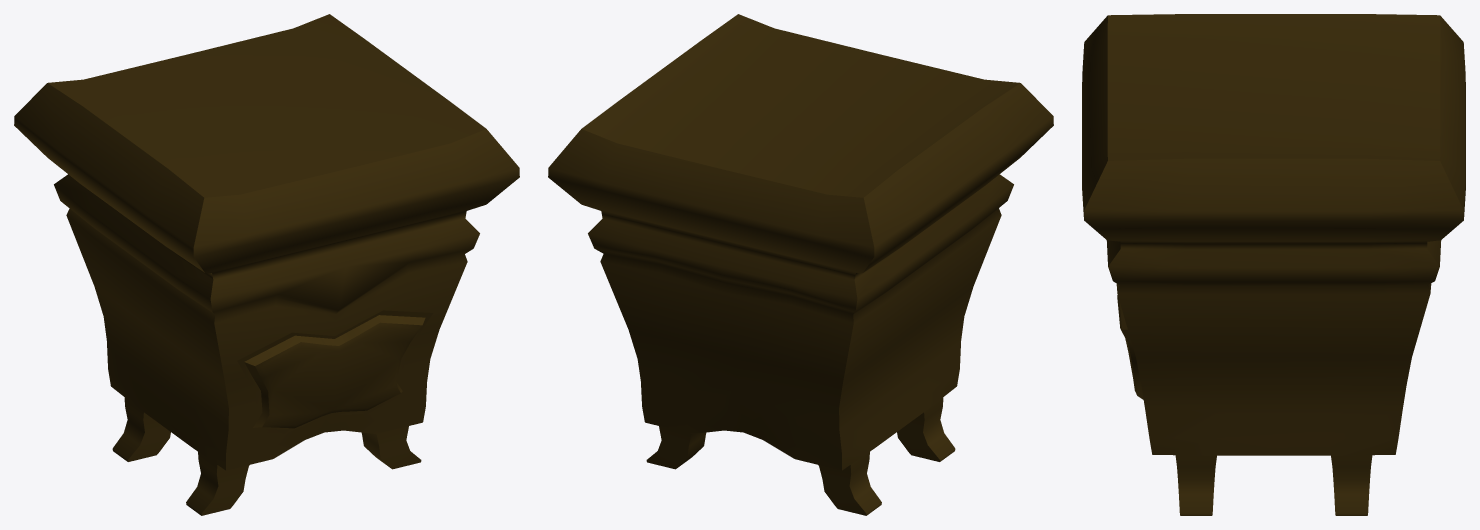
File: tauleta.FBX
3 views of the same model, side by side, from view 1: azimuth 30°, elevation 25°; view 2: azimuth 150°, elevation 25°; view 3: azimuth 270°, elevation 25° (orthographic). The views are drawn at different scales.
Visible parts, largest first — view 1: tauleta_nit_llibres_LP; view 2: tauleta_nit_llibres_LP; view 3: tauleta_nit_llibres_LP.
Part boxes in pixels (x1,y1,x2,y2): tauleta_nit_llibres_LP: (14,14,519,515); tauleta_nit_llibres_LP: (548,14,1053,515); tauleta_nit_llibres_LP: (1082,14,1465,515).
Bounding box in the file's own units: 73.33 × 74.86 × 69.8.
